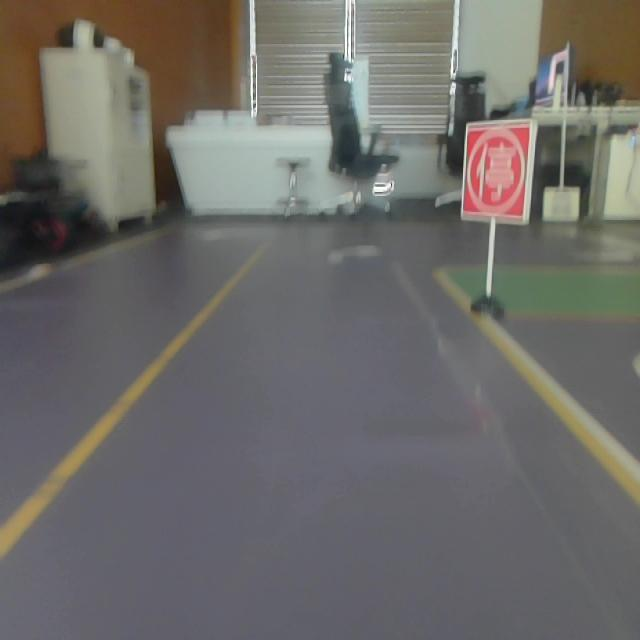left_lane: (0, 238, 271, 564)
right_lane: (439, 271, 640, 502)
